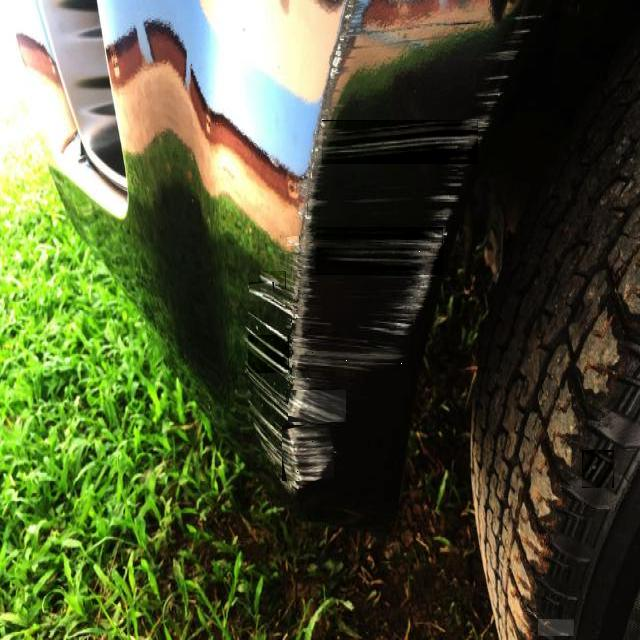Dent: (322, 120, 478, 164), (292, 320, 413, 376), (316, 227, 443, 275), (282, 425, 334, 481), (288, 390, 346, 422), (248, 335, 289, 373), (582, 450, 614, 488), (538, 619, 574, 636), (259, 271, 286, 289), (249, 282, 274, 301), (287, 236, 300, 246), (299, 203, 308, 217)
